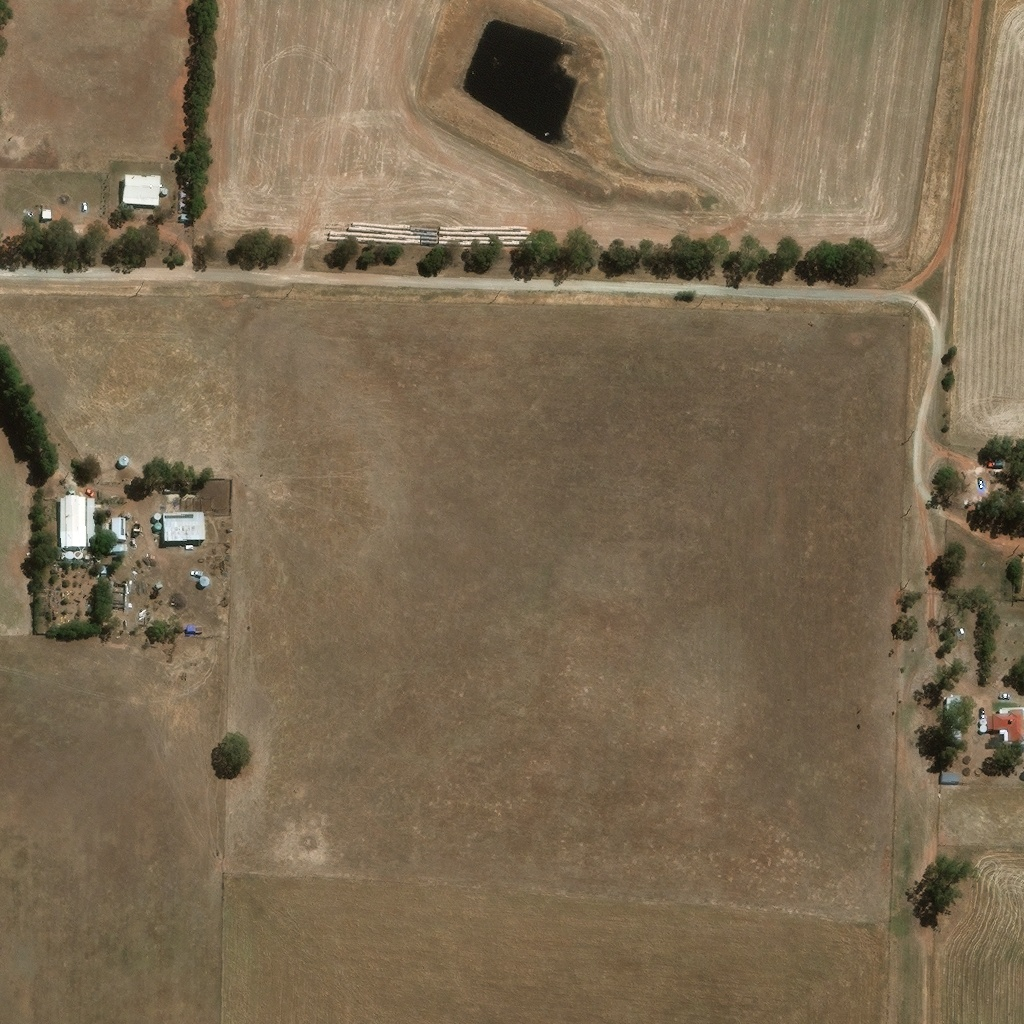0 no-damage: (59, 494, 96, 558), (987, 704, 1023, 740), (164, 511, 205, 541), (124, 172, 162, 201), (947, 690, 961, 715), (111, 516, 126, 538), (941, 769, 960, 780), (187, 623, 203, 631), (182, 185, 193, 196), (199, 575, 209, 585), (102, 522, 110, 534), (43, 204, 52, 214), (154, 520, 163, 529), (153, 512, 161, 520), (181, 197, 187, 207), (155, 580, 163, 587), (101, 565, 108, 572), (181, 210, 189, 216), (981, 714, 987, 721), (980, 722, 987, 728), (186, 543, 194, 546)
4 un-classified: (979, 495, 1003, 508), (116, 502, 123, 508), (988, 705, 994, 710), (191, 222, 196, 226), (953, 456, 958, 460)
